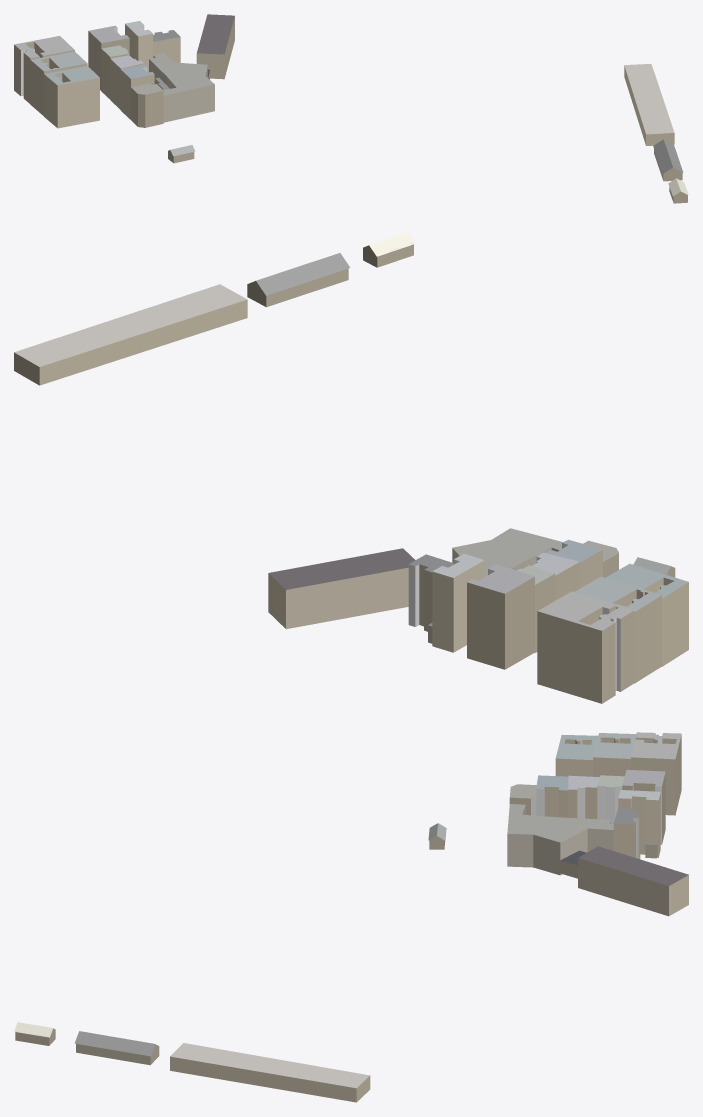
The picture shows the model from 3 angles, top to bottom: view 1: azimuth 30°, elevation 25°; view 2: azimuth 150°, elevation 25°; view 3: azimuth 270°, elevation 25°; orthographic projection. The views are drawn at different scales.
Parts seen in each view (by area): view 1: tuile; view 2: tuile; view 3: tuile.
Boxes of the visible parts, x1,y1,x2,y2 form: tuile: [14, 14, 688, 203]; tuile: [14, 232, 688, 703]; tuile: [14, 732, 688, 1102].
Size of the model in its own units: 240 by 26.79 by 225.
